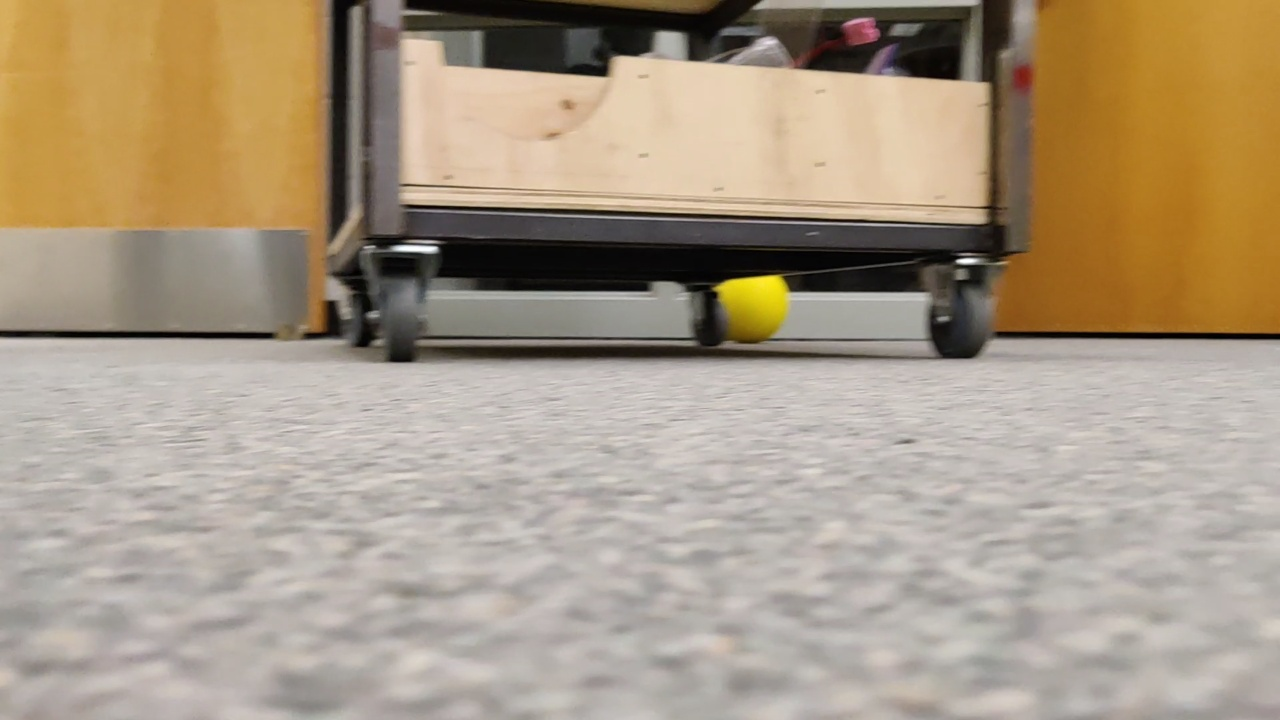Ball: (697, 267, 794, 355)
